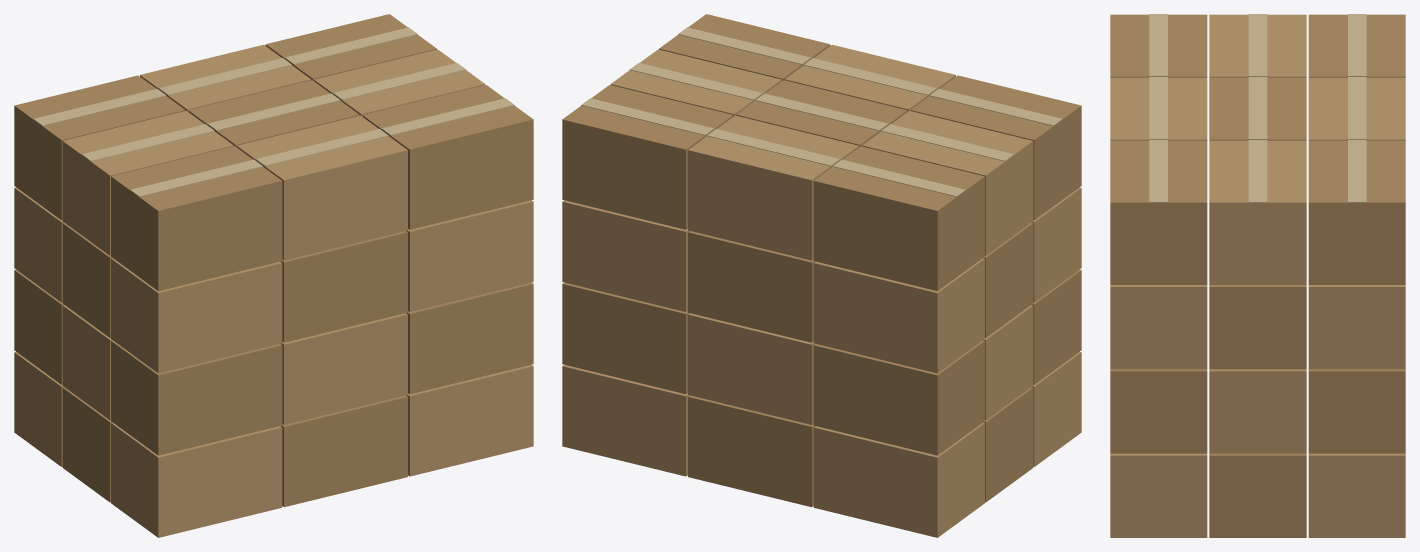
File: load-eur-cartons.glb
3 renders of one model, left to right at view 1: azimuth 30°, elevation 25°; view 2: azimuth 150°, elevation 25°; view 3: azimuth 270°, elevation 25°, orthographic. The views are drawn at different scales.
Visible parts, largest first — view 1: load-cartons; view 2: load-cartons; view 3: load-cartons.
Boxes of the visible parts, box(x1,y1,x2,y2) form: load-cartons: box(14, 14, 533, 537); load-cartons: box(562, 14, 1081, 537); load-cartons: box(1110, 14, 1405, 537).
Size of the model in its own units: 1.19 by 0.996 by 0.794.
